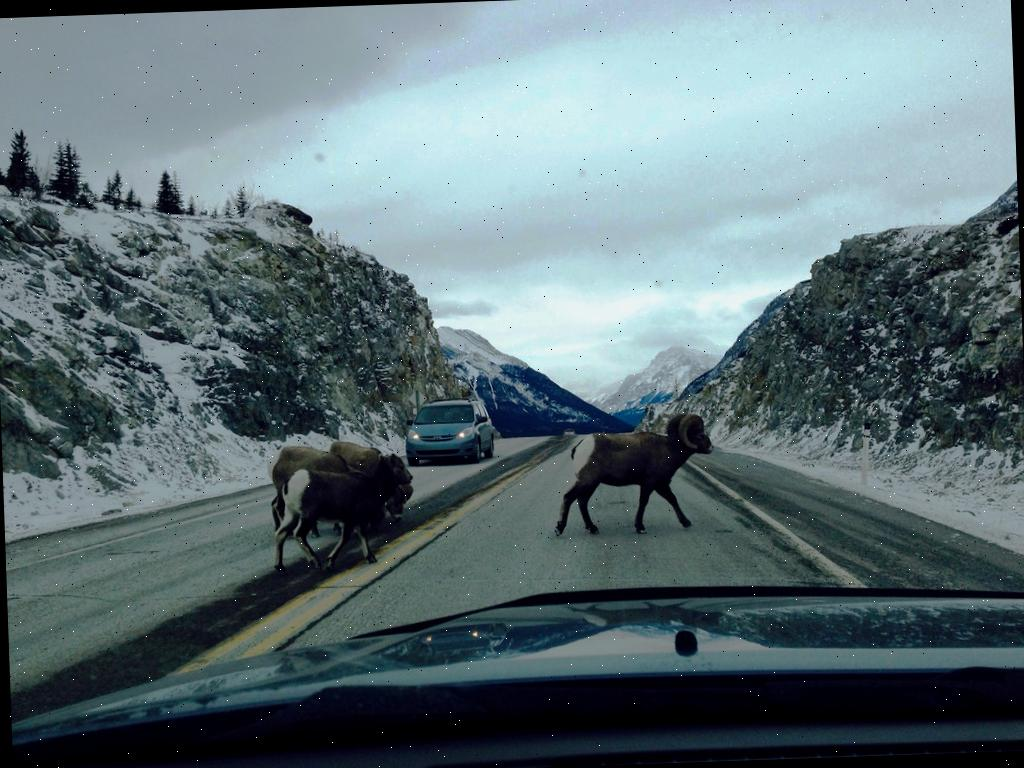Sheep: (550, 412, 718, 536), (272, 463, 408, 567), (270, 444, 349, 529), (333, 436, 383, 465)
